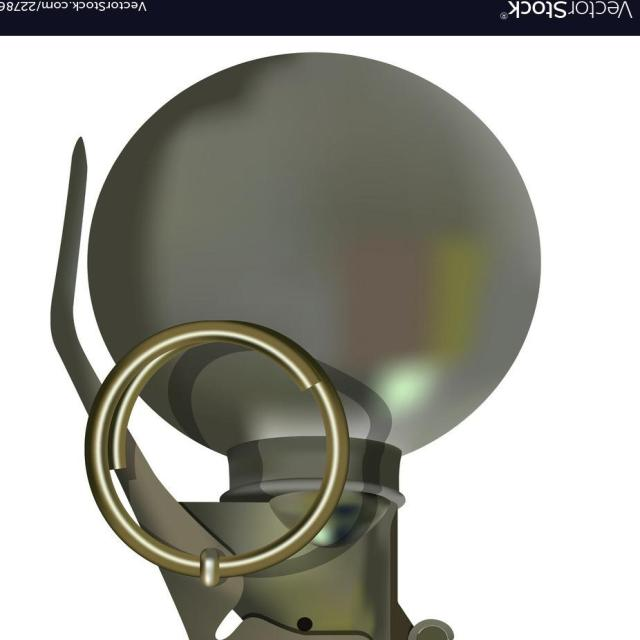grenade: (49, 53, 543, 640)
